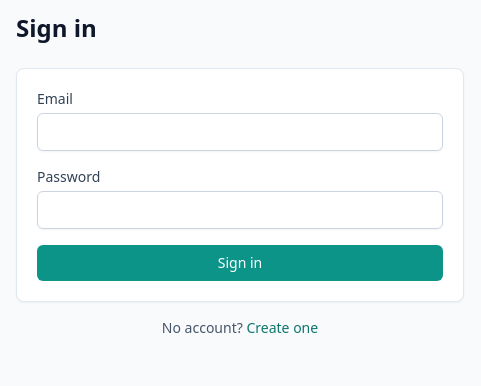
it: LoginPage › shows the server error message when sign in fails
Type "rider@example.com" into the field labelled "Email".
click(240, 132); type("rider@example.com")  # box [37, 113, 443, 151]
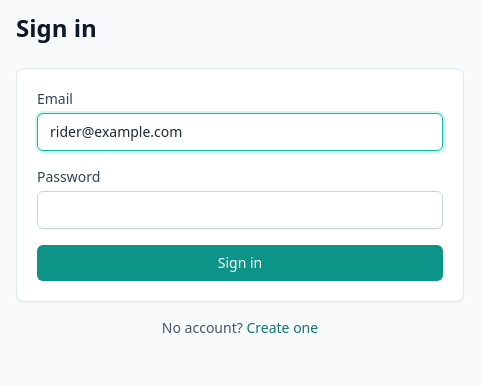
Type "wrong" into the password field labelled "Password".
click(240, 210); type("wrong")  # box [37, 191, 443, 229]
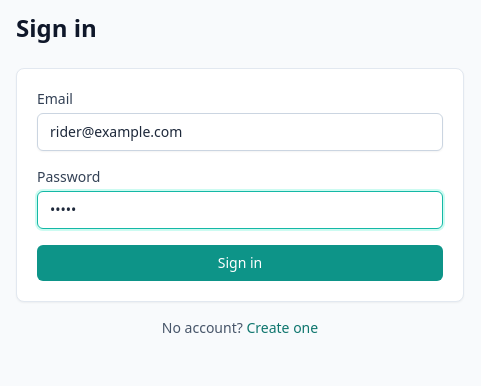
Click the button "Sign in".
click(240, 263)  # box [37, 245, 443, 281]
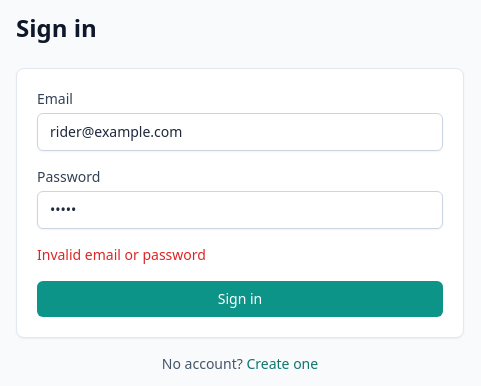
Expected: the message reads "Invalid email or password", [37, 245, 206, 264]
